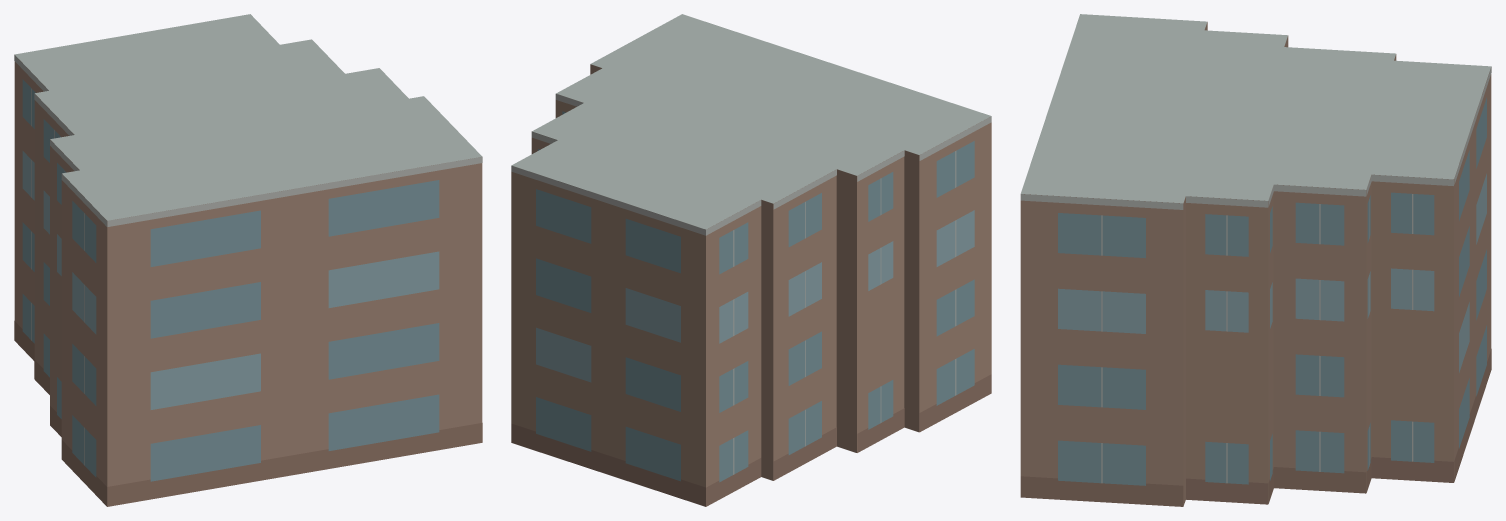
The model's file is survey-upis-32658164.glb.
The picture shows the model from 3 angles, left to right: view 1: azimuth 30°, elevation 25°; view 2: azimuth 150°, elevation 25°; view 3: azimuth 270°, elevation 25°; orthographic projection. The views are drawn at different scales.
Parts seen in each view (by area): view 1: survey-upis-32658164.tmp; view 2: survey-upis-32658164.tmp; view 3: survey-upis-32658164.tmp.
Boxes of the visible parts, x1=… form: survey-upis-32658164.tmp: x1=14, y1=14, x2=482, y2=506; survey-upis-32658164.tmp: x1=511, y1=14, x2=991, y2=506; survey-upis-32658164.tmp: x1=1020, y1=14, x2=1491, y2=506.
Size of the model in its own units: 14.72 by 11 by 15.47.
